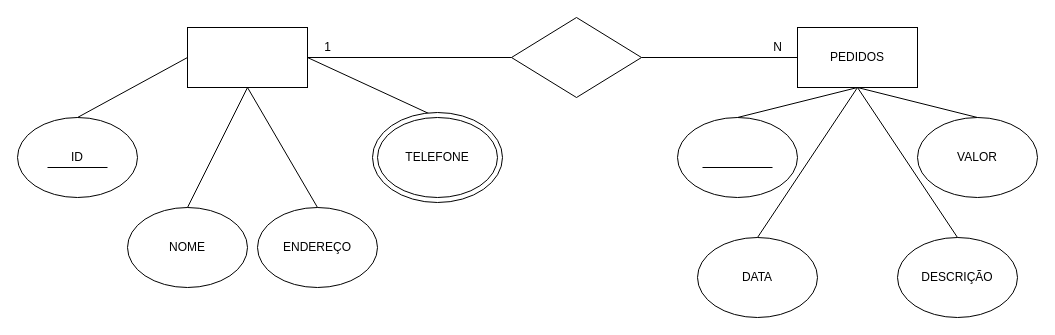
This 1055x335 diagram has some shape labels left out. Here are the shapes that lost their labels. From the top down, the centre of each, then its label:
At (247,57): "CLIENTE".
At (576,57): "POSSUI".
At (737,157): "NÚMERO".
